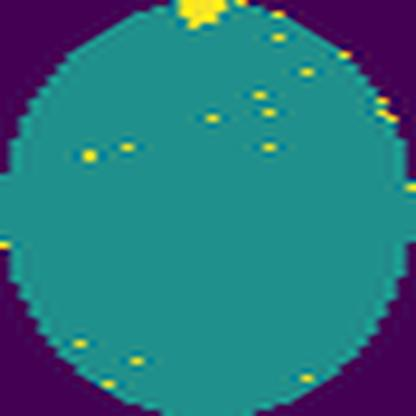Edge-Loc: (166, 0, 238, 28)
